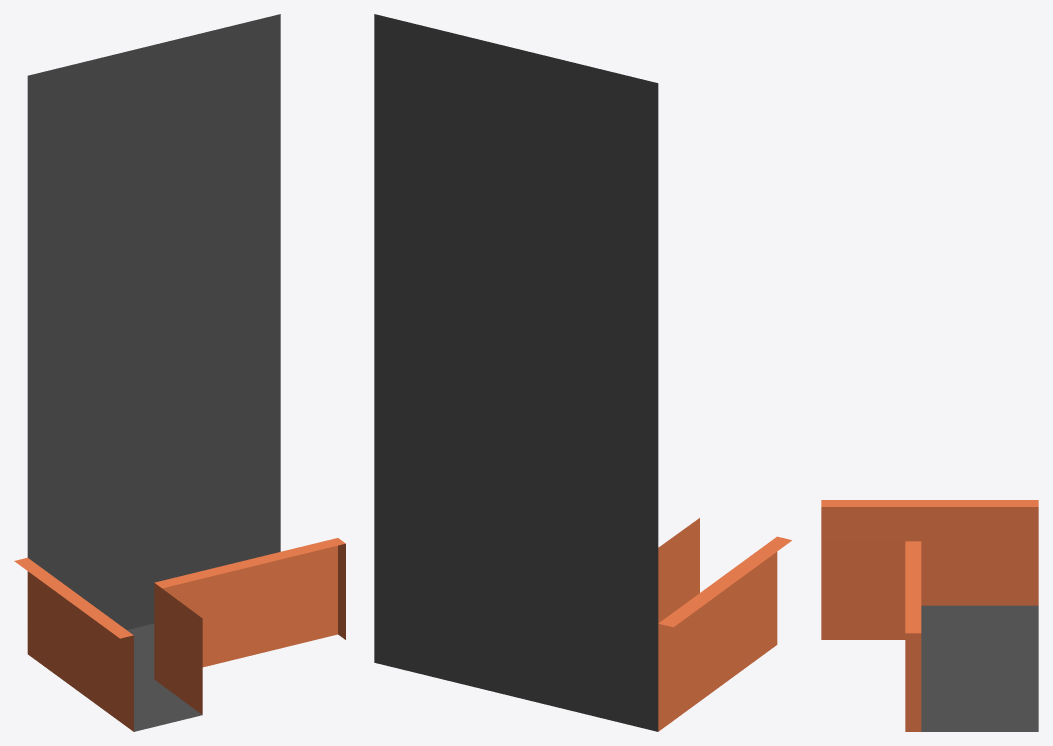
Rendered from model-scenario-static-level0-micelanious-alleyway-0.fbx.
The picture shows the model from 3 angles, left to right: view 1: azimuth 30°, elevation 25°; view 2: azimuth 150°, elevation 25°; view 3: azimuth 270°, elevation 25°; orthographic projection. The views are drawn at different scales.
Visible parts, largest first — view 1: mesh; view 2: mesh; view 3: mesh.
Part boxes in pixels (x1,y1,x2,y2): mesh: (14, 14, 345, 731); mesh: (374, 14, 791, 731); mesh: (821, 500, 1038, 731).
Bounding box in the file's own units: 7.99 × 11.6 × 24.03.
Materials: 1 (1 with a texture image).
